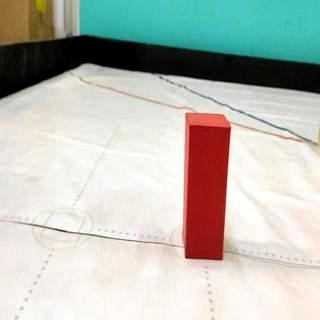redbox: (183, 112, 231, 260)
